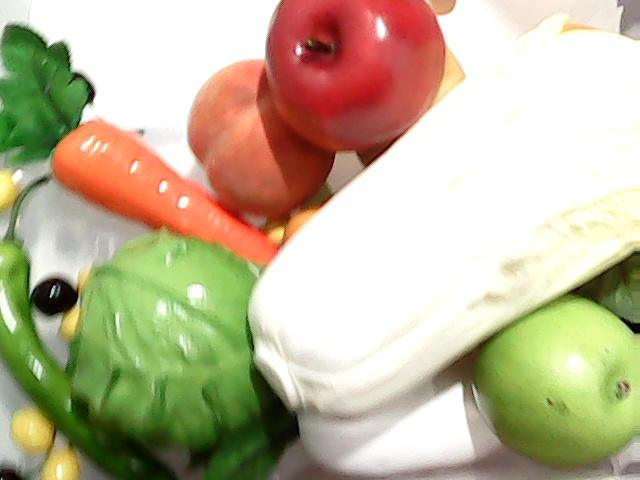apple: (262, 0, 450, 156), (478, 286, 638, 466)
cabbage: (66, 235, 270, 448)
carrot: (0, 24, 284, 272)
mango: (281, 205, 315, 245)
napa cabbage: (230, 15, 640, 413)
peach: (178, 51, 338, 221)
pepper: (1, 220, 182, 472)
potato: (356, 35, 469, 169)
radish: (204, 356, 502, 478)
